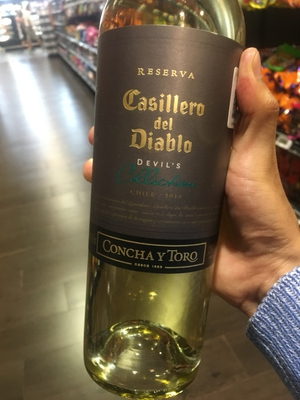casillero del diablo devils collection verde: (76, 1, 238, 386)
